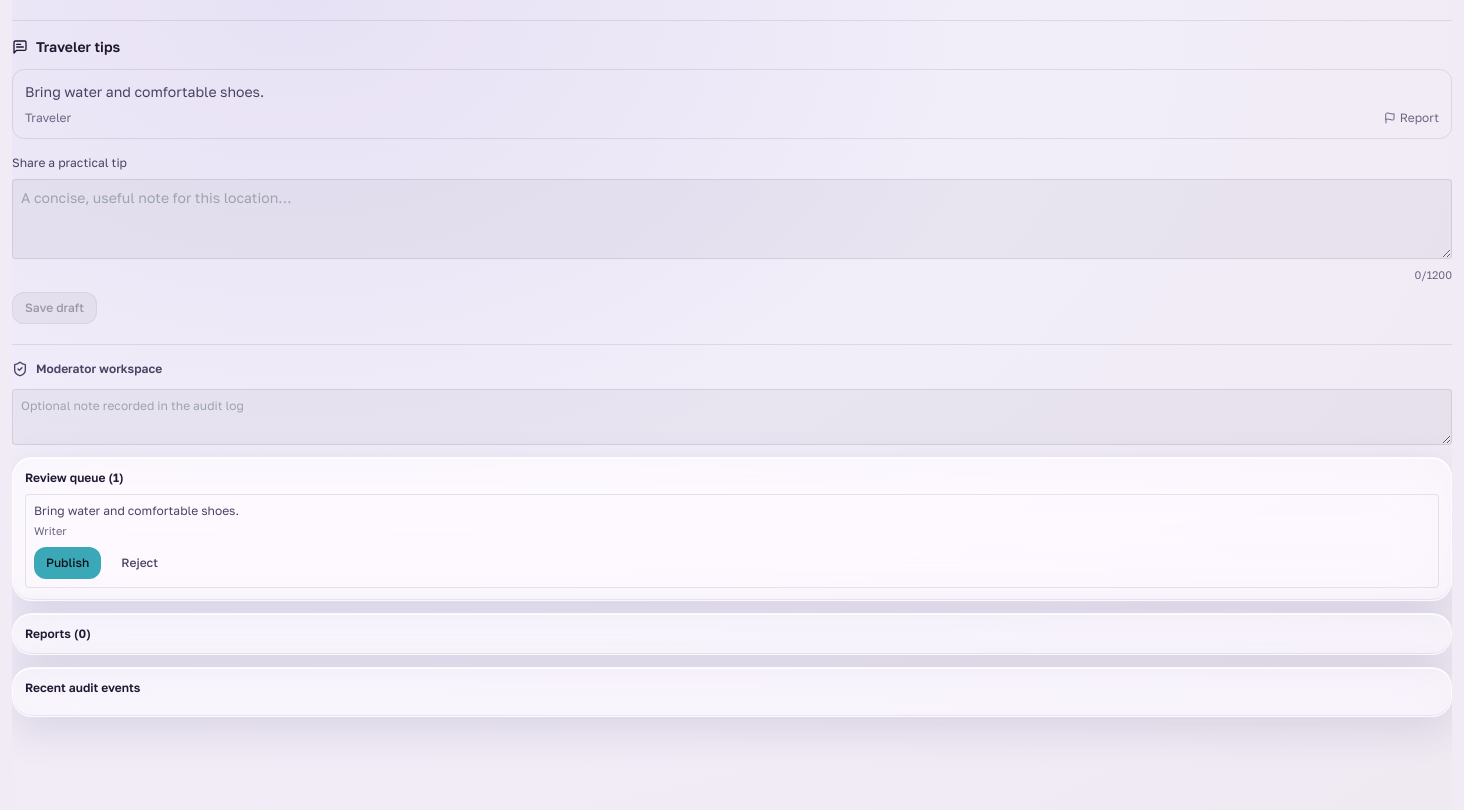
Test: QuestTips › lets editors publish a queued note and records a moderation result
Click the button "Publish" at (68, 563), box [34,547,101,579]
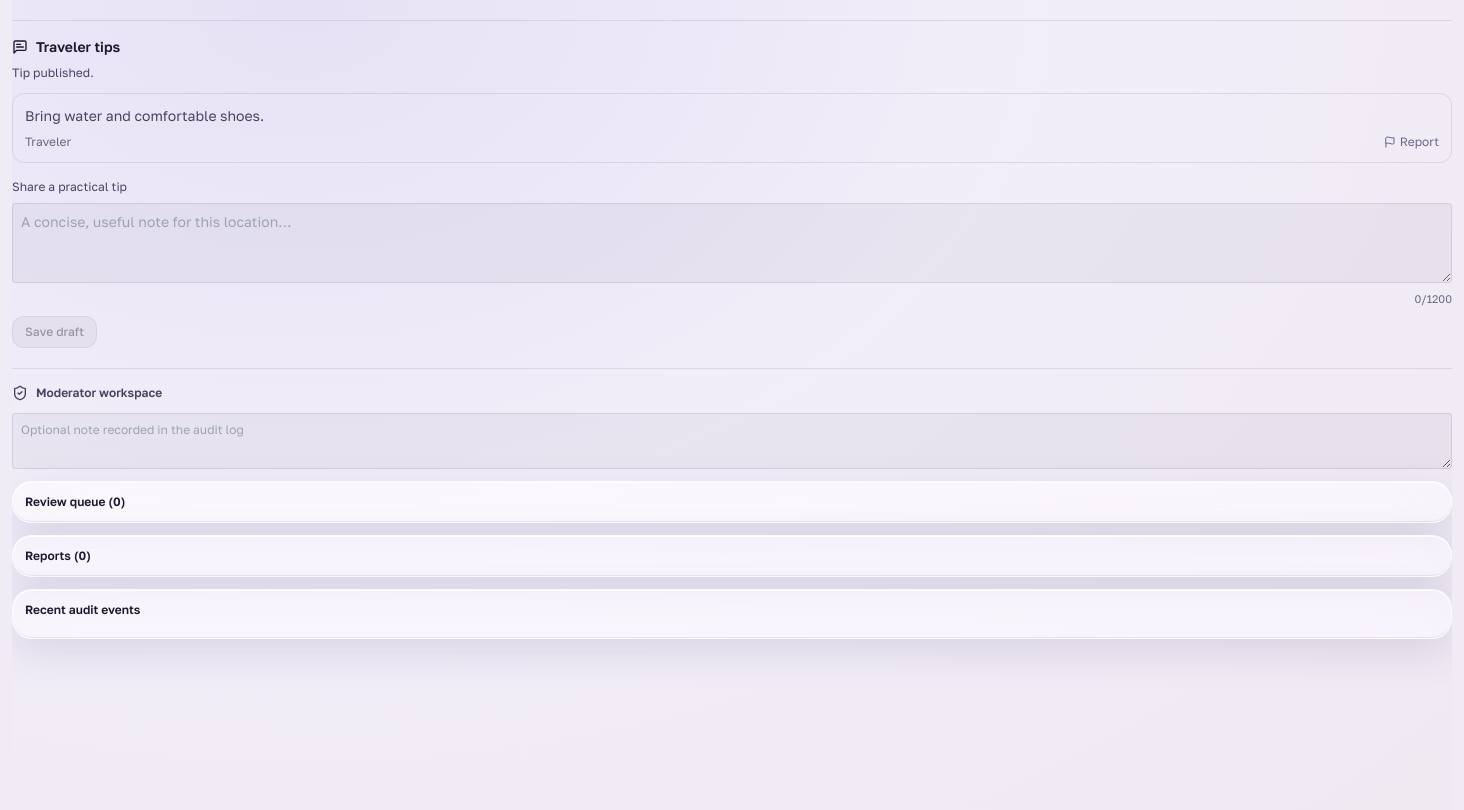
Expected: the text "Tip published." is shown, [12,65,94,80]
